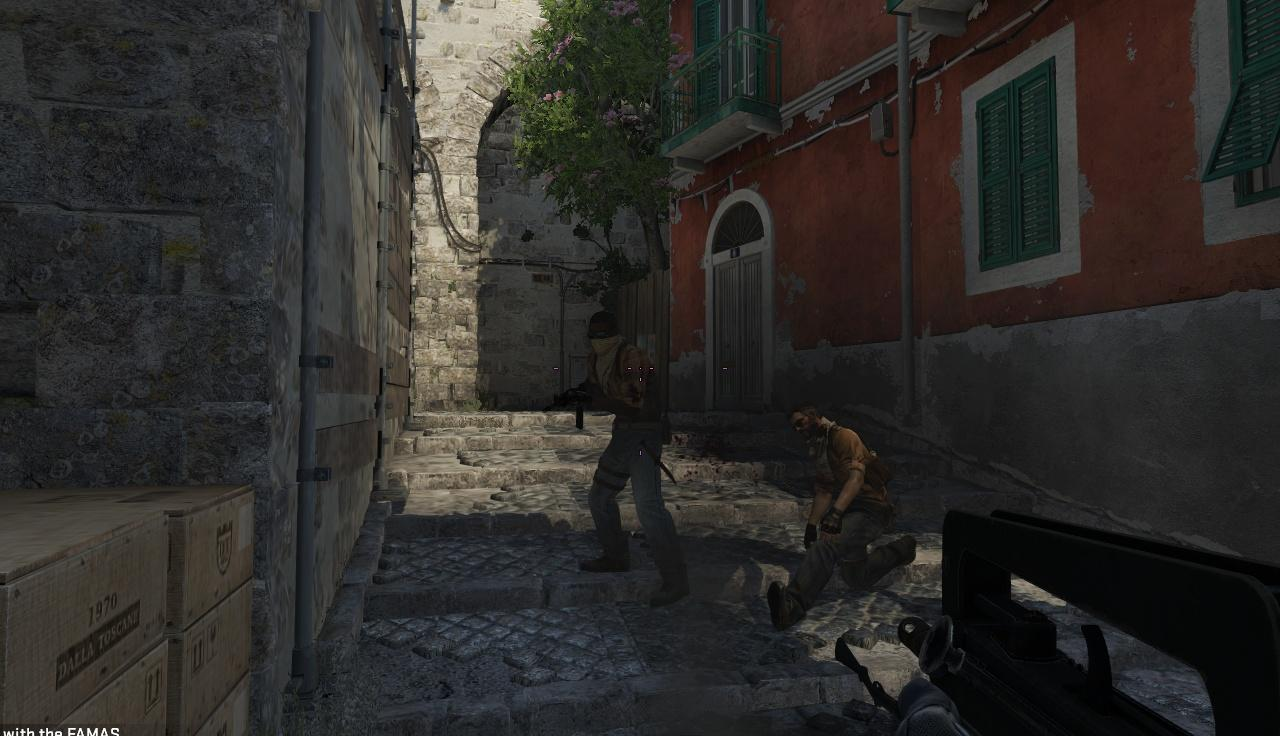rifle: (905, 514, 1280, 736)
tt: (578, 319, 669, 605)
tthead: (586, 311, 620, 357)
